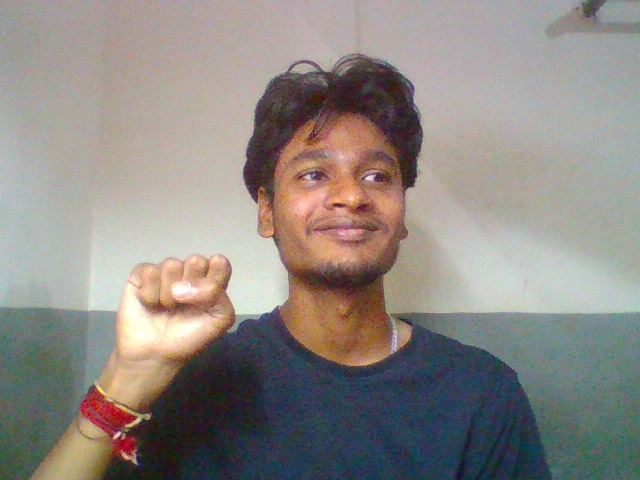Bye: (99, 245, 257, 352)
